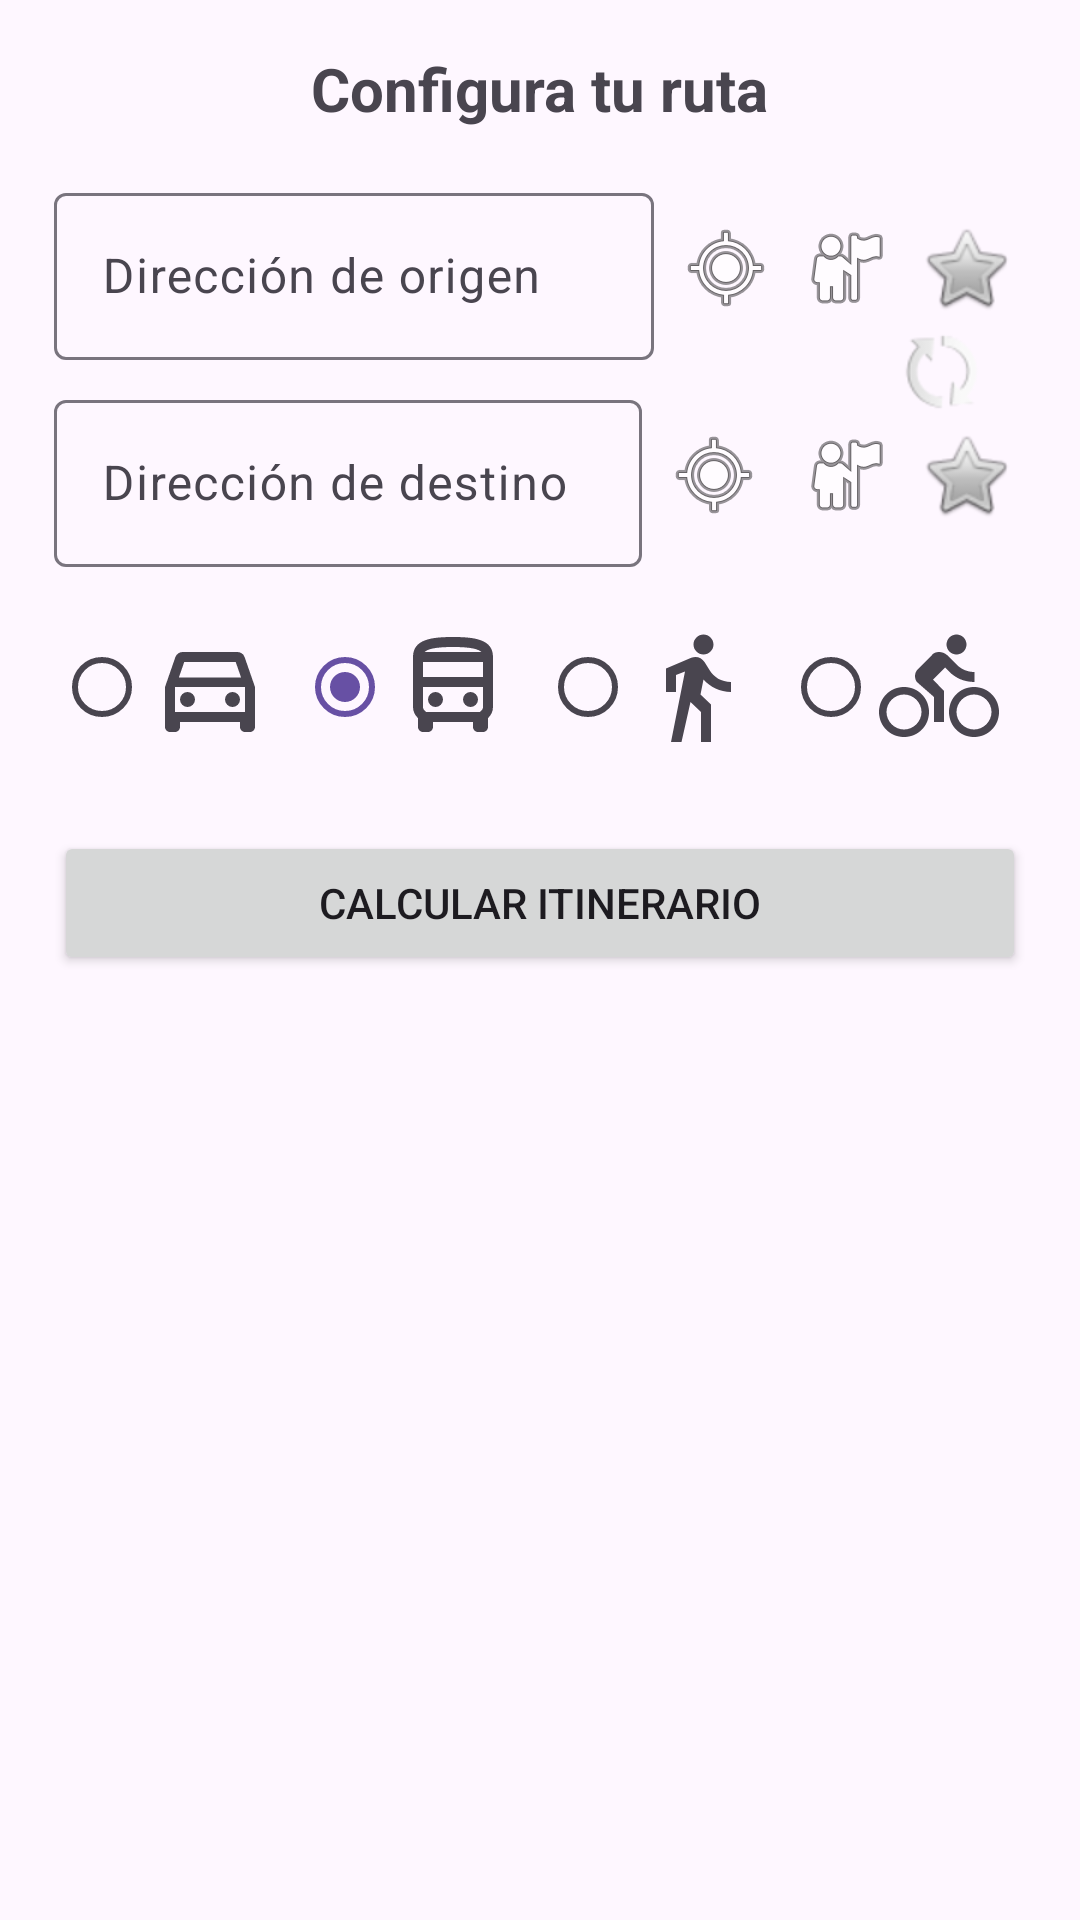

Point at icon controls on the screen. Image size 1080*1920, points as [x,y].
mylocation: [726,268], [714,475]
myplaces: [847,268], [847,475]
star off: [967,269], [967,476]
